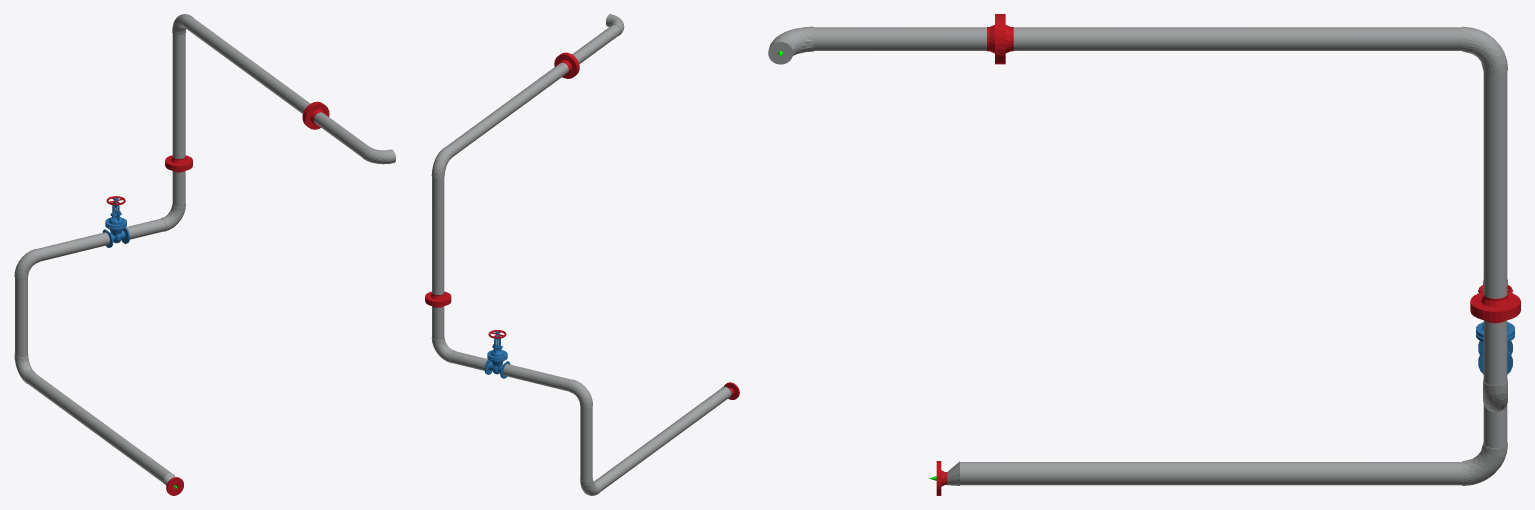
File: Phase04b1.fbx
The picture shows the model from 3 angles, left to right: view 1: azimuth 30°, elevation 25°; view 2: azimuth 150°, elevation 25°; view 3: azimuth 270°, elevation 25°; orthographic projection. The views are drawn at different scales.
Visible parts, largest first — view 1: Типы трубопроводов:Труба 108х4-12х18н10т:1313502, Типы трубопроводов:Труба 108х4-12х18н10т:1338261, Типы трубопроводов:Труба 108х4-12х18н10т:1312435, Типы трубопроводов:Труба 108х4-12х18н10т:1313445, Типы трубопроводов:Труба 108х4-12х18н10т:1313411, СтальСварка_Отвод_ГОСТ17375-2001:Исполнение 1_Неоцинкованные (×2), Типы трубопроводов:Труба 108х4-12х18н10т:1338229, Крыша по умолчанию 26454, Типы трубопроводов:Труба 108х4-12х18н10т:1313140, Типы трубопроводов:Труба 108х4-12х18н10т:1338254; view 2: Типы трубопроводов:Труба 108х4-12х18н10т:1313502, Типы трубопроводов:Труба 108х4-12х18н10т:1338261, Типы трубопроводов:Труба 108х4-12х18н10т:1312435, Типы трубопроводов:Труба 108х4-12х18н10т:1313445, Типы трубопроводов:Труба 108х4-12х18н10т:1313411, СтальСварка_Отвод_ГОСТ17375-2001:Исполнение 1_Неоцинкованные (×2), Типы трубопроводов:Труба 108х4-12х18н10т:1338229, Крыша по умолчанию 26454, Типы трубопроводов:Труба 108х4-12х18н10т:1313140, Типы трубопроводов:Труба 108х4-12х18н10т:1338254, CPS_фланец; view 3: Типы трубопроводов:Труба 108х4-12х18н10т:1313502, Типы трубопроводов:Труба 108х4-12х18н10т:1338261, Типы трубопроводов:Труба 108х4-12х18н10т:1312435, Типы трубопроводов:Труба 108х4-12х18н10т:1338229, СтальСварка_Отвод_ГОСТ17375-2001:Исполнение 1_Неоцинкованные (×3), Типы трубопроводов:Труба 108х4-12х18н10т:1338254, CPS_фланец, Типы трубопроводов:Труба 108х4-12х18н10т:1313445.
Boxes of the visible parts, <box> form: Типы трубопроводов:Труба 108х4-12х18н10т:1313502: <box>25,372,171,483</box>; Типы трубопроводов:Труба 108х4-12х18н10т:1338261: <box>182,16,310,113</box>; Типы трубопроводов:Труба 108х4-12х18н10т:1312435: <box>172,33,185,158</box>; Типы трубопроводов:Труба 108х4-12х18н10т:1313445: <box>15,277,27,357</box>; Типы трубопроводов:Труба 108х4-12х18н10т:1313411: <box>37,232,109,261</box>; СтальСварка_Отвод_ГОСТ17375-2001:Исполнение 1_Неоцинкованные (×2): <box>14,147,395,278</box>; Типы трубопроводов:Труба 108х4-12х18н10т:1338229: <box>314,112,369,156</box>; Крыша по умолчанию 26454: <box>102,197,129,247</box>; Типы трубопроводов:Труба 108х4-12х18н10т:1313140: <box>126,218,166,239</box>; Типы трубопроводов:Труба 108х4-12х18н10т:1338254: <box>172,171,185,206</box>; Типы трубопроводов:Труба 108х4-12х18н10т:1313502: <box>593,387,731,491</box>; Типы трубопроводов:Труба 108х4-12х18н10т:1338261: <box>445,62,568,157</box>; Типы трубопроводов:Труба 108х4-12х18н10т:1312435: <box>432,177,444,294</box>; Типы трубопроводов:Труба 108х4-12х18н10т:1313445: <box>580,406,592,481</box>; Типы трубопроводов:Труба 108х4-12х18н10т:1313411: <box>503,364,571,391</box>; СтальСварка_Отвод_ГОСТ17375-2001:Исполнение 1_Неоцинкованные (×2): <box>431,147,592,407</box>; Типы трубопроводов:Труба 108х4-12х18н10т:1338229: <box>572,24,620,63</box>; Крыша по умолчанию 26454: <box>484,331,510,378</box>; Типы трубопроводов:Труба 108х4-12х18н10т:1313140: <box>450,351,488,370</box>; Типы трубопроводов:Труба 108х4-12х18н10т:1338254: <box>432,306,444,340</box>; CPS_фланец: <box>554,53,578,78</box>; Типы трубопроводов:Труба 108х4-12х18н10т:1313502: <box>960,462,1462,485</box>; Типы трубопроводов:Труба 108х4-12х18н10т:1338261: <box>1013,27,1462,50</box>; Типы трубопроводов:Труба 108х4-12х18н10т:1312435: <box>1483,71,1507,298</box>; Типы трубопроводов:Труба 108х4-12х18н10т:1338229: <box>814,27,986,50</box>; СтальСварка_Отвод_ГОСТ17375-2001:Исполнение 1_Неоцинкованные (×3): <box>768,26,1507,485</box>; Типы трубопроводов:Труба 108х4-12х18н10т:1338254: <box>1483,320,1507,385</box>; CPS_фланец: <box>1470,292,1520,316</box>; Типы трубопроводов:Труба 108х4-12х18н10т:1313445: <box>1483,404,1507,448</box>.
Bounding box in the file's own units: 1769 × 3428 × 3103.
